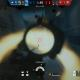Friend_label: (37, 30, 43, 33)
